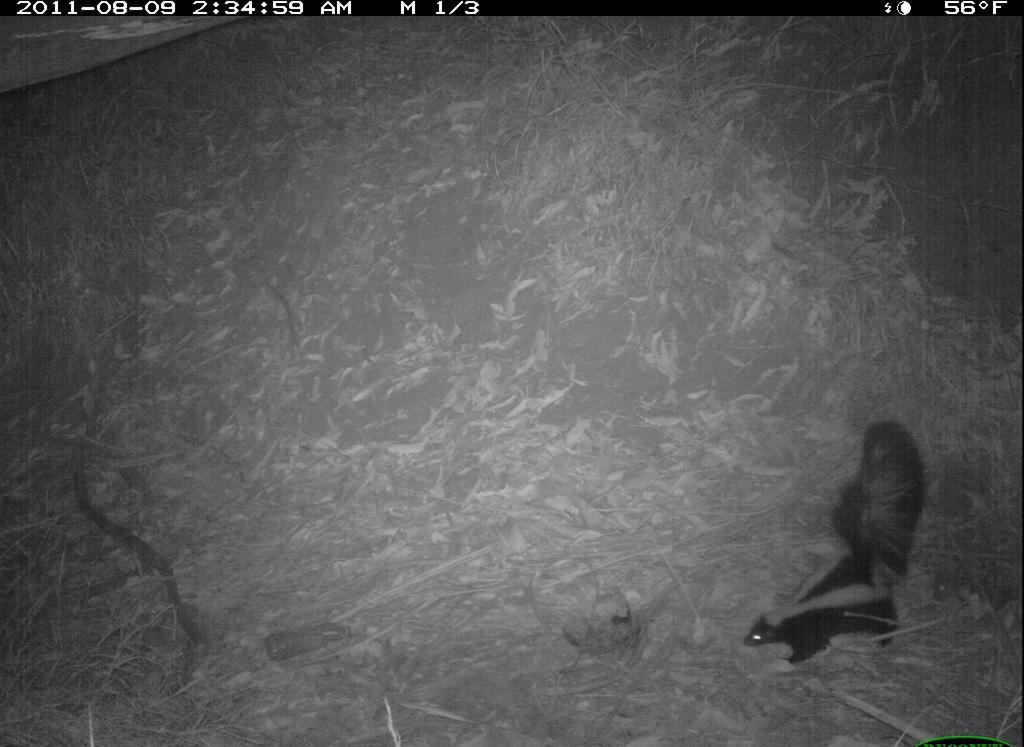skunk: (730, 404, 925, 666)
